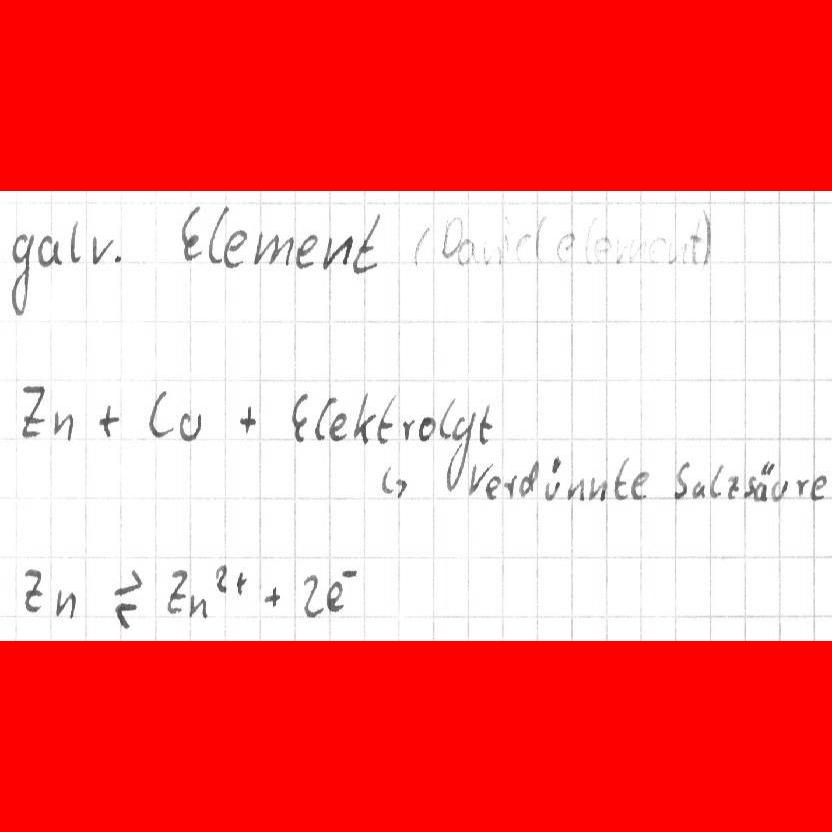Char: (444, 403, 474, 497), (8, 229, 34, 319), (110, 567, 142, 631), (351, 211, 382, 277), (18, 380, 47, 435), (253, 229, 292, 269), (180, 203, 205, 264), (146, 388, 175, 440), (205, 205, 230, 265), (165, 565, 189, 617), (21, 565, 45, 615), (353, 390, 374, 445), (289, 390, 310, 444), (322, 232, 351, 269), (223, 229, 248, 269), (376, 395, 396, 445), (299, 572, 320, 618), (439, 215, 460, 261), (313, 396, 334, 442), (96, 400, 119, 441), (543, 455, 563, 500), (411, 224, 431, 269), (90, 233, 116, 267), (296, 231, 319, 269), (469, 461, 493, 497), (382, 466, 408, 498), (613, 454, 631, 500), (533, 214, 551, 260), (518, 459, 540, 496), (753, 460, 772, 502), (54, 587, 78, 620), (325, 579, 347, 615), (50, 408, 73, 442), (178, 408, 201, 442), (38, 236, 62, 268), (67, 218, 83, 266), (437, 396, 454, 441), (700, 207, 712, 270), (555, 232, 577, 264), (672, 458, 689, 499), (614, 236, 638, 265), (478, 402, 494, 444), (479, 238, 503, 265), (238, 404, 258, 435), (591, 233, 612, 262), (513, 232, 533, 262), (648, 234, 670, 261), (585, 474, 606, 502), (417, 414, 437, 443), (329, 411, 348, 441), (189, 592, 209, 620), (213, 561, 228, 598), (709, 462, 724, 499), (631, 471, 649, 500), (484, 472, 501, 501), (456, 237, 474, 264), (673, 238, 692, 263), (261, 584, 281, 607), (811, 474, 828, 500), (771, 476, 788, 502), (400, 414, 415, 443), (234, 569, 248, 597), (690, 479, 708, 500), (503, 472, 517, 499), (793, 476, 809, 499), (567, 478, 583, 501), (727, 475, 741, 500), (339, 565, 364, 578), (743, 474, 756, 499)
